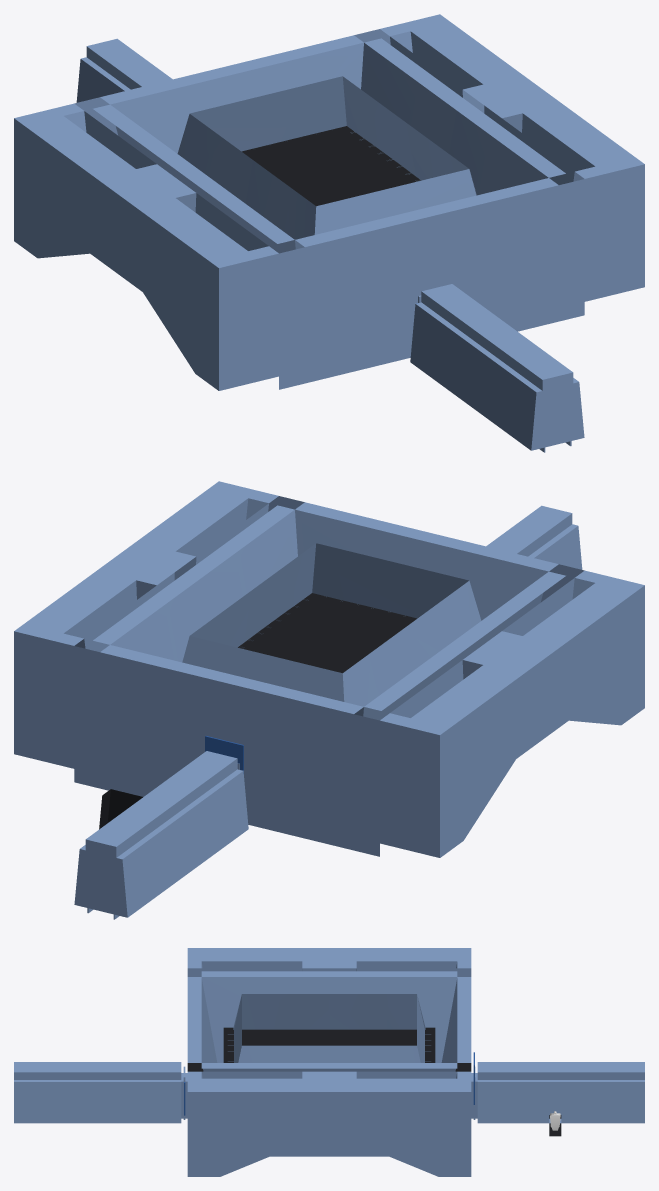
File: game_level_test_04.FBX
3 renders of one model, top to bottom at view 1: azimuth 30°, elevation 25°; view 2: azimuth 150°, elevation 25°; view 3: azimuth 270°, elevation 25°, orthographic. The views are drawn at different scales.
Visible parts, largest first — view 1: Cylinder017, Object098, Object062, Cylinder016, Object106, Object163; view 2: Cylinder017, Object098, Object106, Cylinder016, Object062, Object114, Object163; view 3: Cylinder017, Object098, Object062, Object106, Cylinder016, Object163, Object162.
Part boxes in pixels (<box>): Cylinder017: <box>14,14,644,390</box>; Object098: <box>93,35,565,253</box>; Object062: <box>410,284,584,452</box>; Cylinder016: <box>243,128,415,206</box>; Object106: <box>76,38,172,102</box>; Object163: <box>242,126,420,181</box>; Cylinder017: <box>14,481,644,857</box>; Object098: <box>93,502,565,720</box>; Object106: <box>74,751,248,919</box>; Cylinder016: <box>243,595,415,673</box>; Object062: <box>486,505,582,569</box>; Object114: <box>205,736,243,773</box>; Object163: <box>238,593,416,648</box>; Cylinder017: <box>187,948,471,1176</box>; Object098: <box>187,971,471,1071</box>; Object062: <box>14,1062,187,1123</box>; Object106: <box>471,1062,644,1136</box>; Cylinder016: <box>242,1030,416,1045</box>; Object163: <box>223,1027,435,1062</box>; Object162: <box>549,1082,561,1114</box>.
Size of the model in its own units: 11477 by 21273 by 3640.
